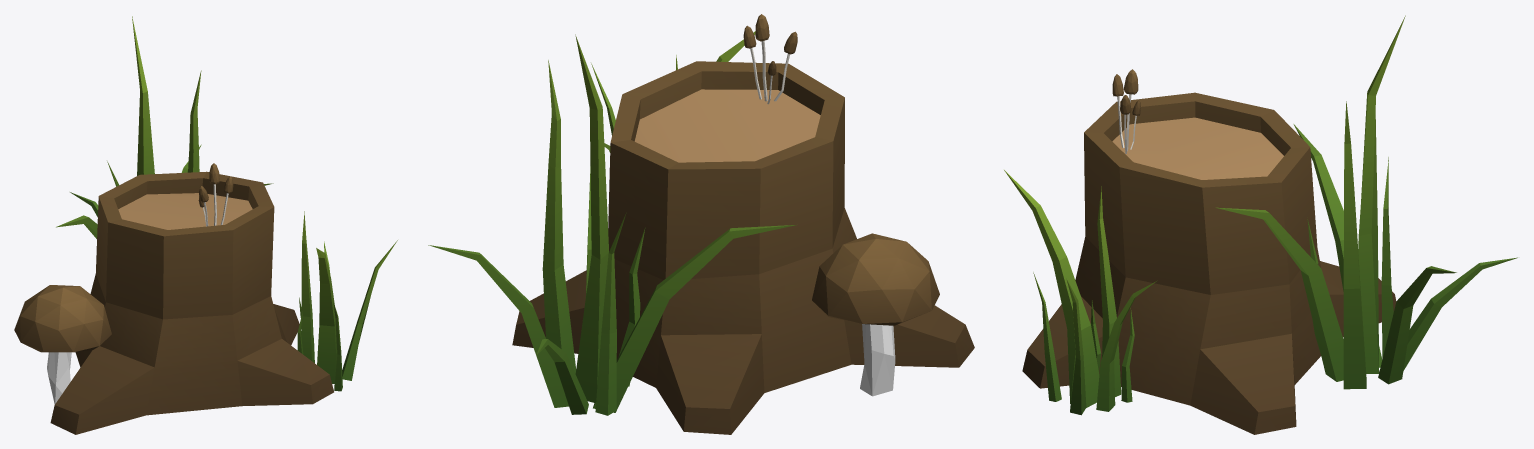
File: Stump_04.fbx
3 renders of one model, left to right at view 1: azimuth 30°, elevation 25°; view 2: azimuth 150°, elevation 25°; view 3: azimuth 270°, elevation 25°, orthographic. The views are drawn at different scales.
Visible parts, largest first — view 1: Stump_04; view 2: Stump_04; view 3: Stump_04.
Part boxes in pixels (x1,y1,x2,y2): Stump_04: (14, 16, 397, 434); Stump_04: (428, 14, 974, 434); Stump_04: (1004, 15, 1517, 434).
Bounding box in the file's own units: 0.8674 × 0.7649 × 0.996.
